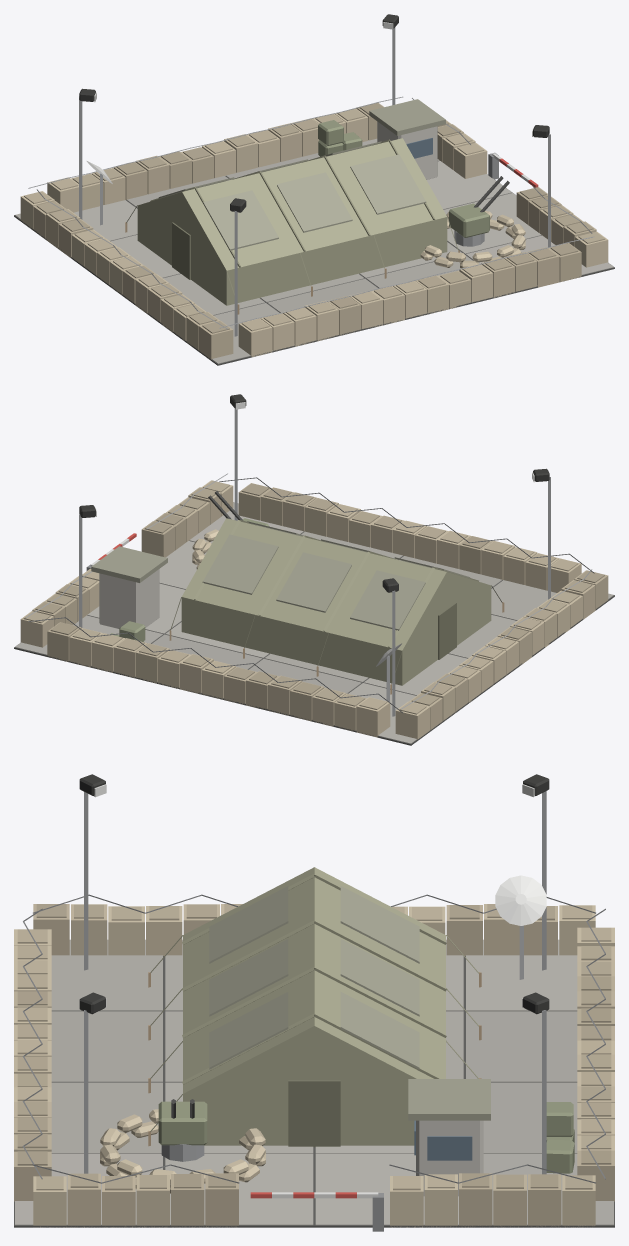
The model's file is b_aapost.glb.
3 views of the same model, one above another, from view 1: azimuth 30°, elevation 25°; view 2: azimuth 150°, elevation 25°; view 3: azimuth 270°, elevation 25° (orthographic). The views are drawn at different scales.
Parts seen in each view (by area): view 1: hull; view 2: hull; view 3: hull, turret.
Boxes of the visible parts, x1=… form: hull: x1=14, y1=14, x2=614, y2=365; hull: x1=14, y1=394, x2=614, y2=745; hull: x1=14, y1=774, x2=614, y2=1231; turret: x1=495, y1=875, x2=546, y2=925.
Bounding box in the file's own units: 18.25 × 5.78 × 16.
